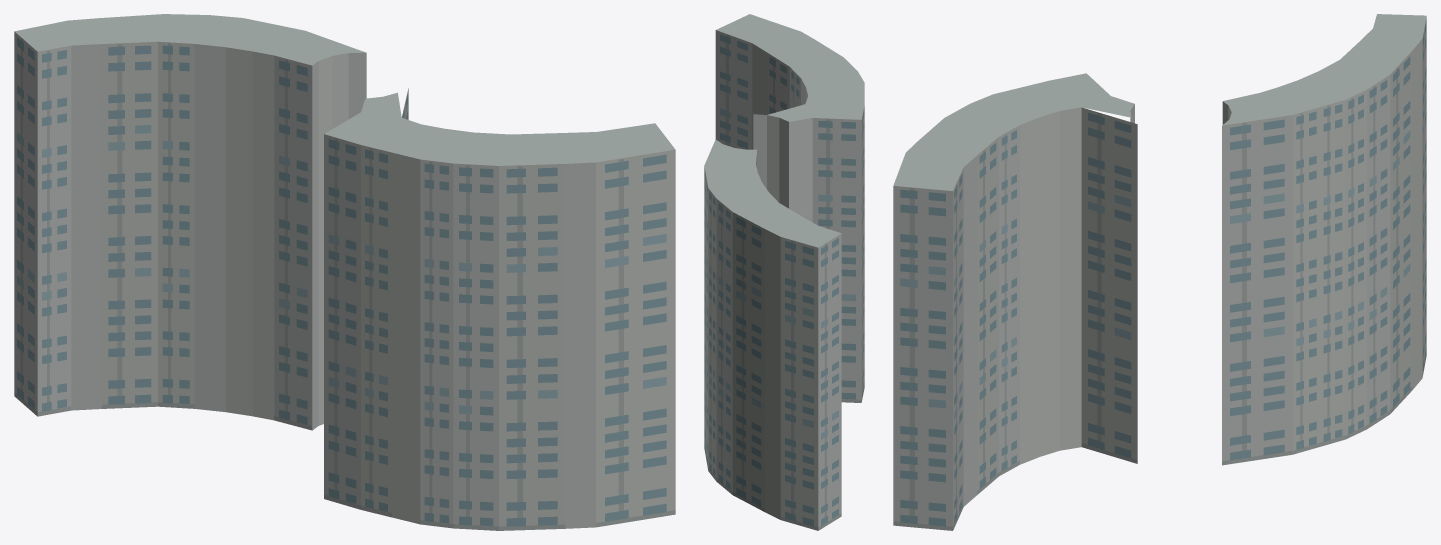
Rendered from residential-c3087e24-1547-4a05-be27-e16999411662.glb.
3 views of the same model, side by side, from view 1: azimuth 30°, elevation 25°; view 2: azimuth 150°, elevation 25°; view 3: azimuth 270°, elevation 25° (orthographic). The views are drawn at different scales.
Parts seen in each view (by area): view 1: residential-c3087e24-1547-4a05-be27-e16999411662.tmp; view 2: residential-c3087e24-1547-4a05-be27-e16999411662.tmp; view 3: residential-c3087e24-1547-4a05-be27-e16999411662.tmp.
Boxes of the visible parts, x1,y1,x2,y2 form: residential-c3087e24-1547-4a05-be27-e16999411662.tmp: (14,14,675,530); residential-c3087e24-1547-4a05-be27-e16999411662.tmp: (704,14,864,530); residential-c3087e24-1547-4a05-be27-e16999411662.tmp: (893,14,1426,530).
Size of the model in its own units: 95.06 by 85 by 121.
